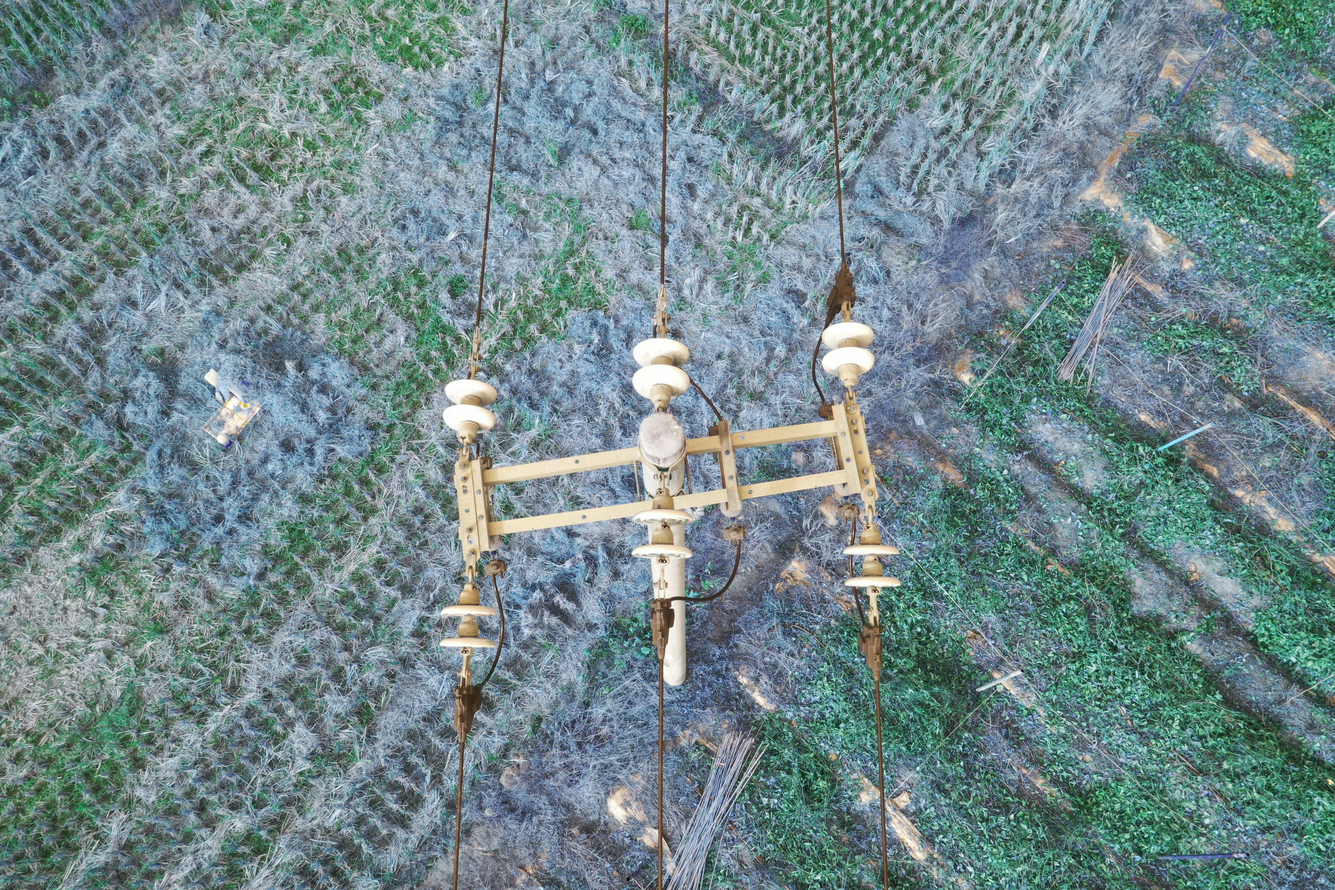severe_soiling_no_discharge_whole: (630, 335, 692, 413)
